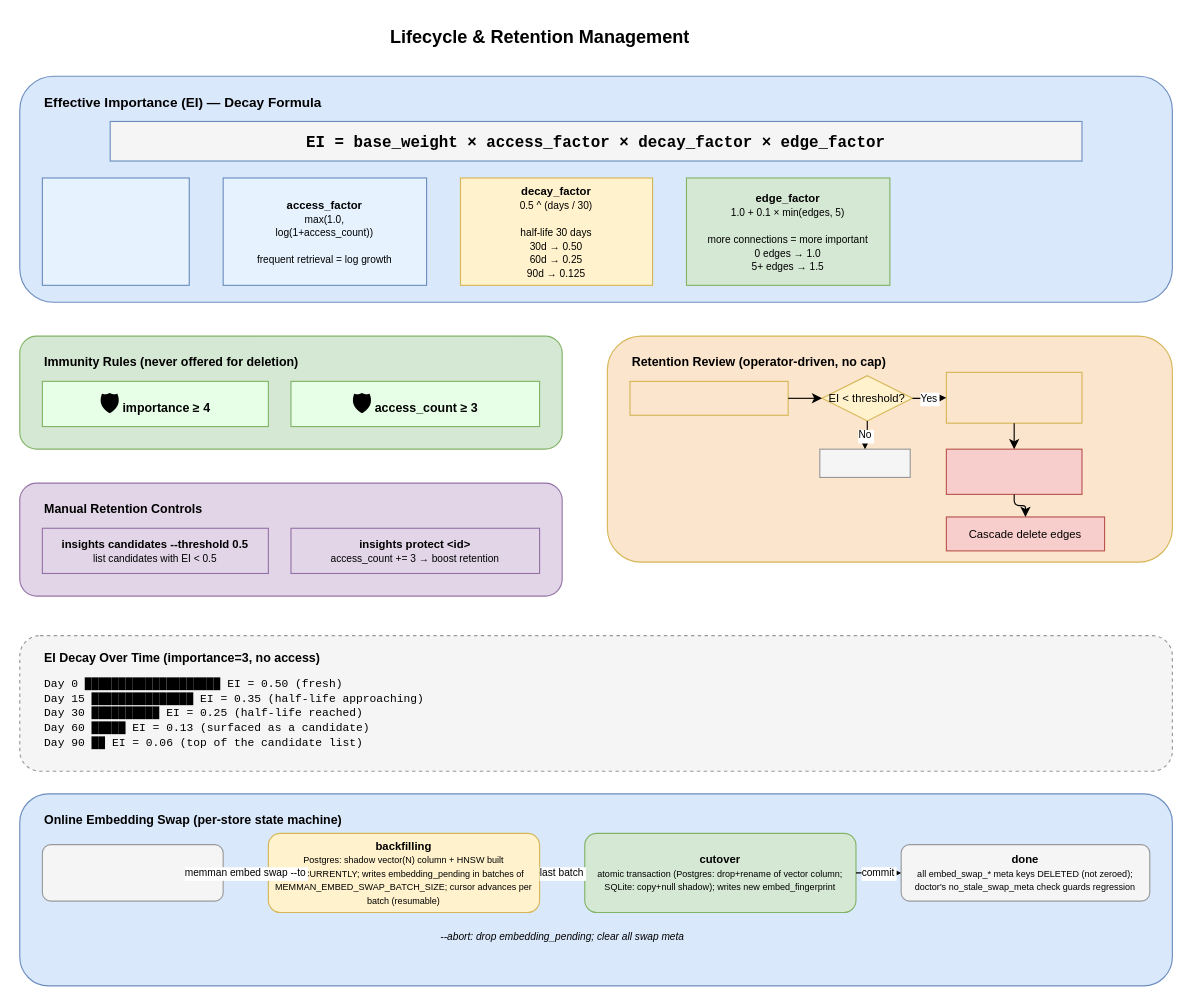
Some shapes in this 1192 by 1006 pixel diagram are drawn without their labels. Each missing label, with the centre of its shape:
"(idle) no embed_swap_* keys" goes at point 132,872.
"base_weight imp 5 → 1.00 imp 4 → 0.80 imp 3 → 0.50 imp 2 → 0.30 imp 1 → 0.15" goes at point 115,231.
"Count active insights" goes at point 708,397.
"No-op" goes at point 864,462.
"Soft delete SET deleted_at = now()" goes at point 1013,471.
"Sort by EI ASC exclude immune REPORT only: memman insights candidates" goes at point 1013,397.
